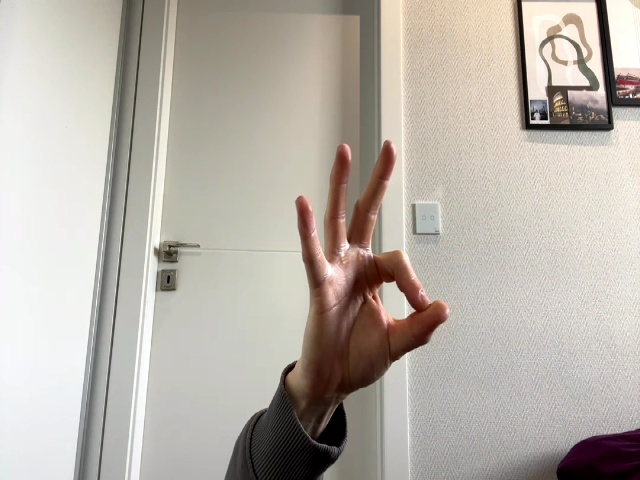O: (296, 140, 449, 411)
